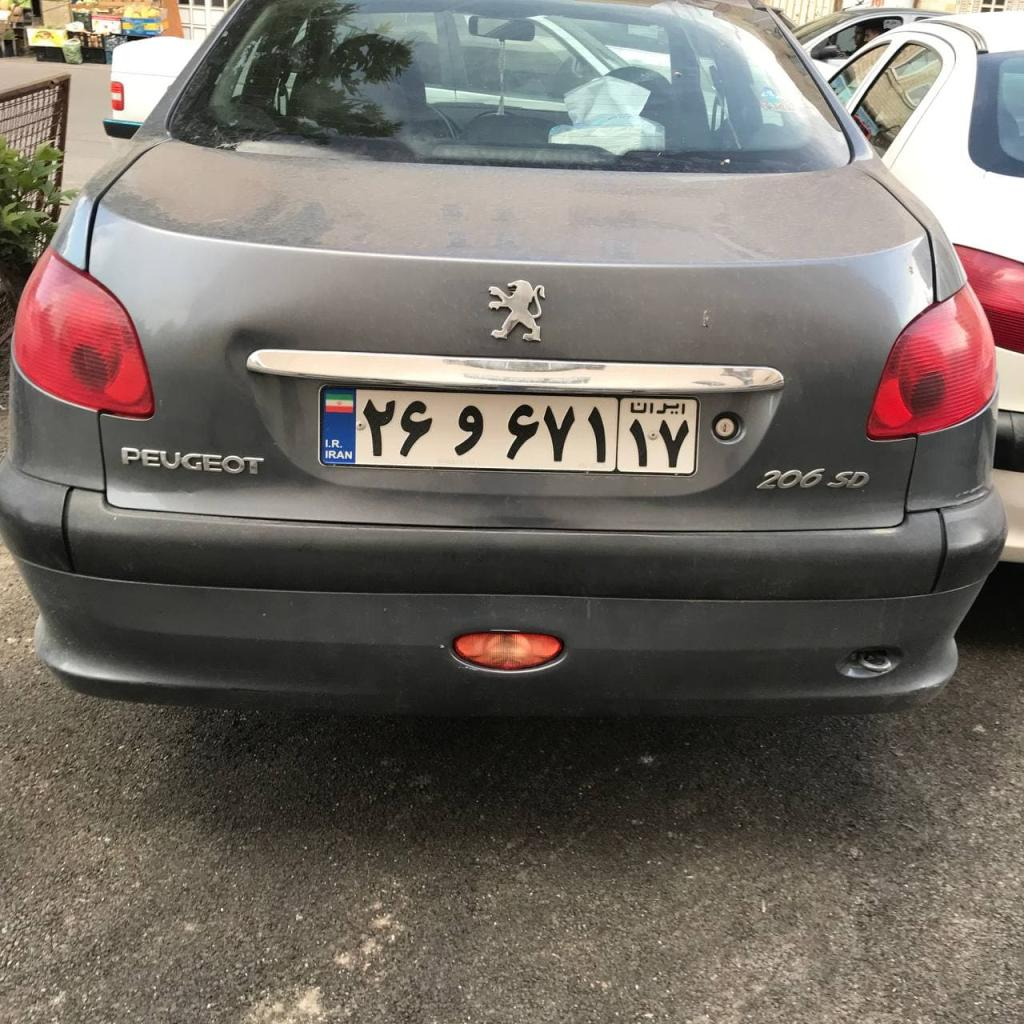Plates: (319, 384, 698, 475)
